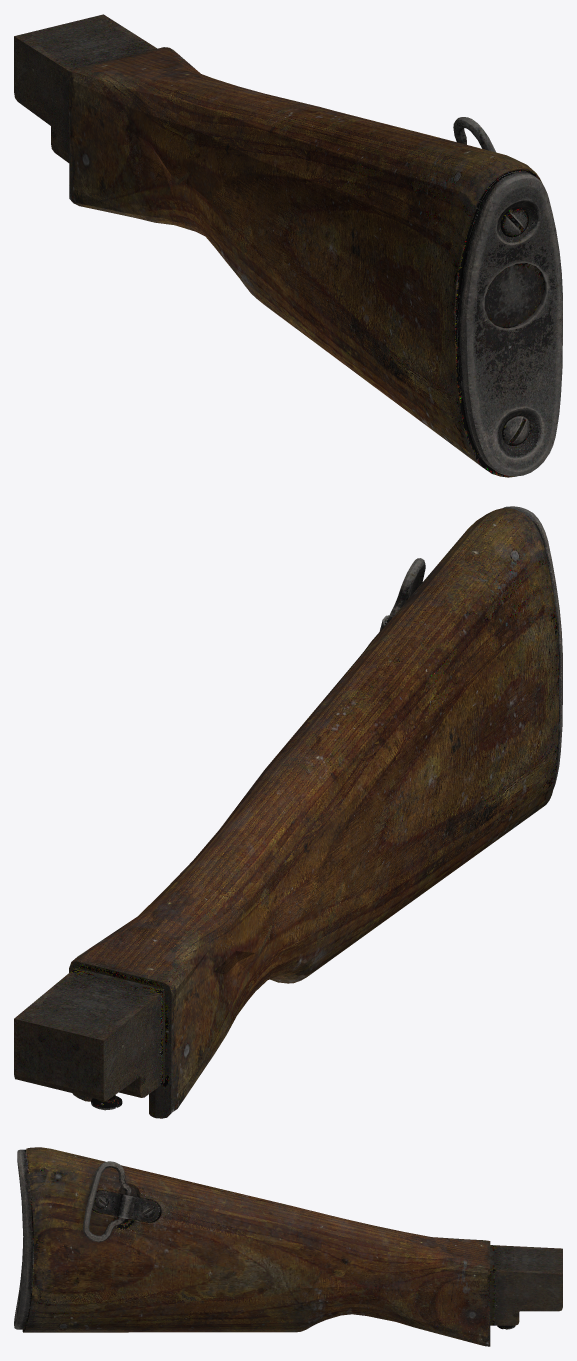
3 renders of one model, top to bottom at view 1: azimuth 30°, elevation 25°; view 2: azimuth 150°, elevation 25°; view 3: azimuth 270°, elevation 25°, orthographic. The views are drawn at different scales.
Visible parts, largest first — view 1: TW_59d6514b86f774171a068a08_PZ_Import; view 2: TW_59d6514b86f774171a068a08_PZ_Import; view 3: TW_59d6514b86f774171a068a08_PZ_Import.
Boxes of the visible parts, x1,y1,x2,y2 form: TW_59d6514b86f774171a068a08_PZ_Import: (14,14,562,477); TW_59d6514b86f774171a068a08_PZ_Import: (14,506,562,1118); TW_59d6514b86f774171a068a08_PZ_Import: (14,1147,562,1346).
Size of the model in its own units: 0.0231 by 0.1568 by 0.0585.
1 material, 1 textured.
